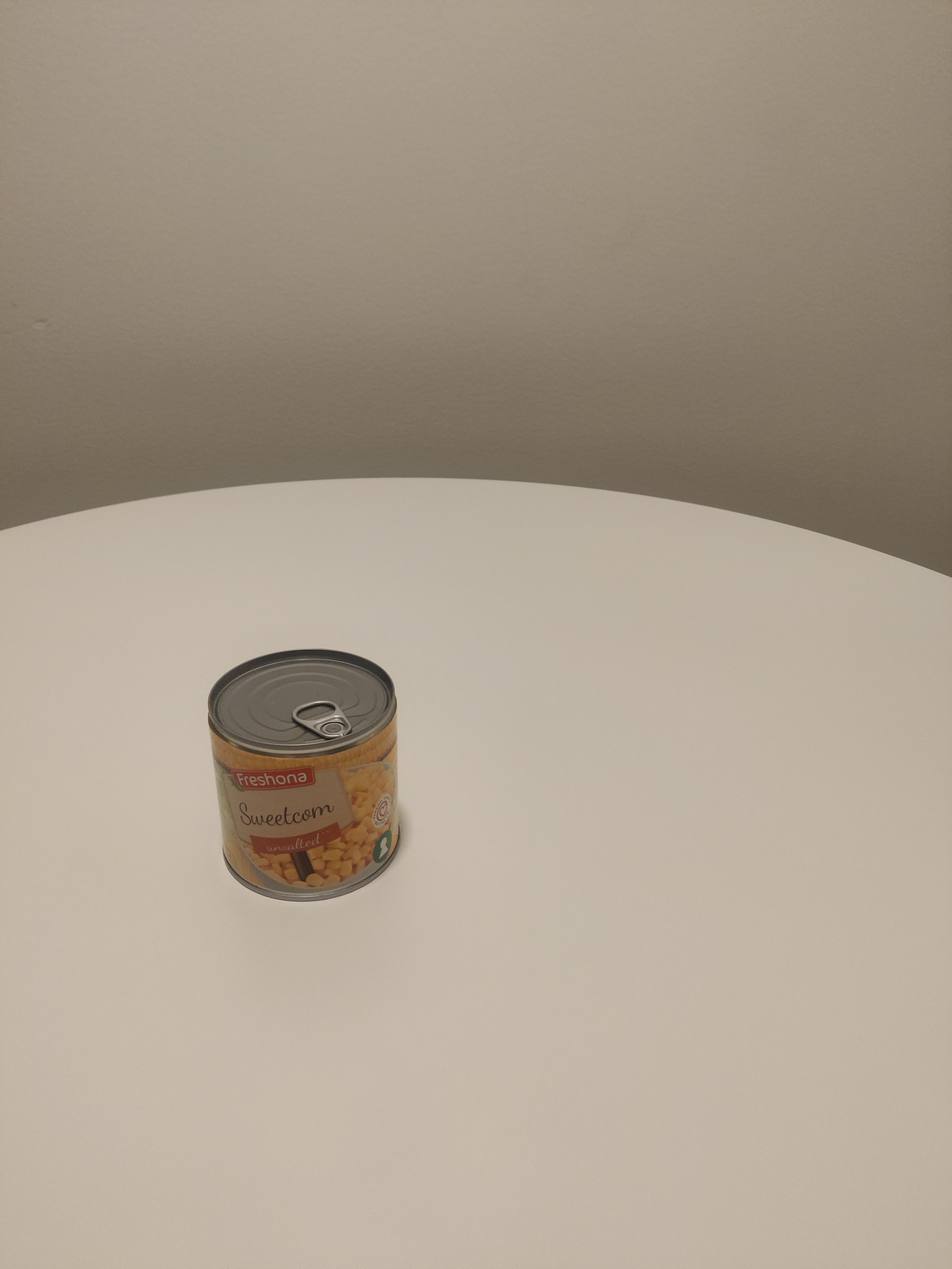Konservburk: (206, 649, 401, 905)
